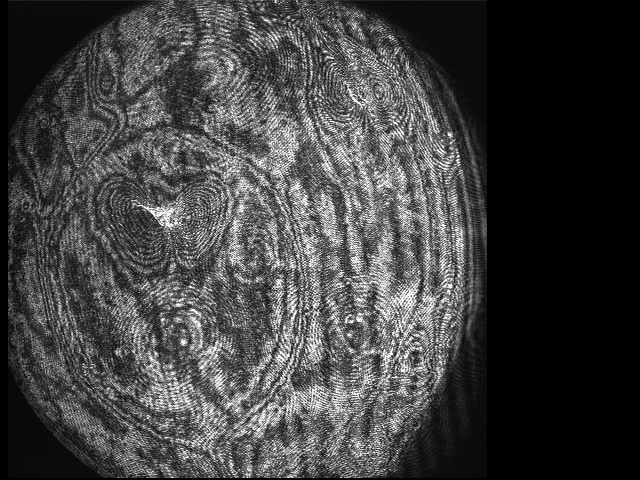plume: (102, 176, 226, 267)
